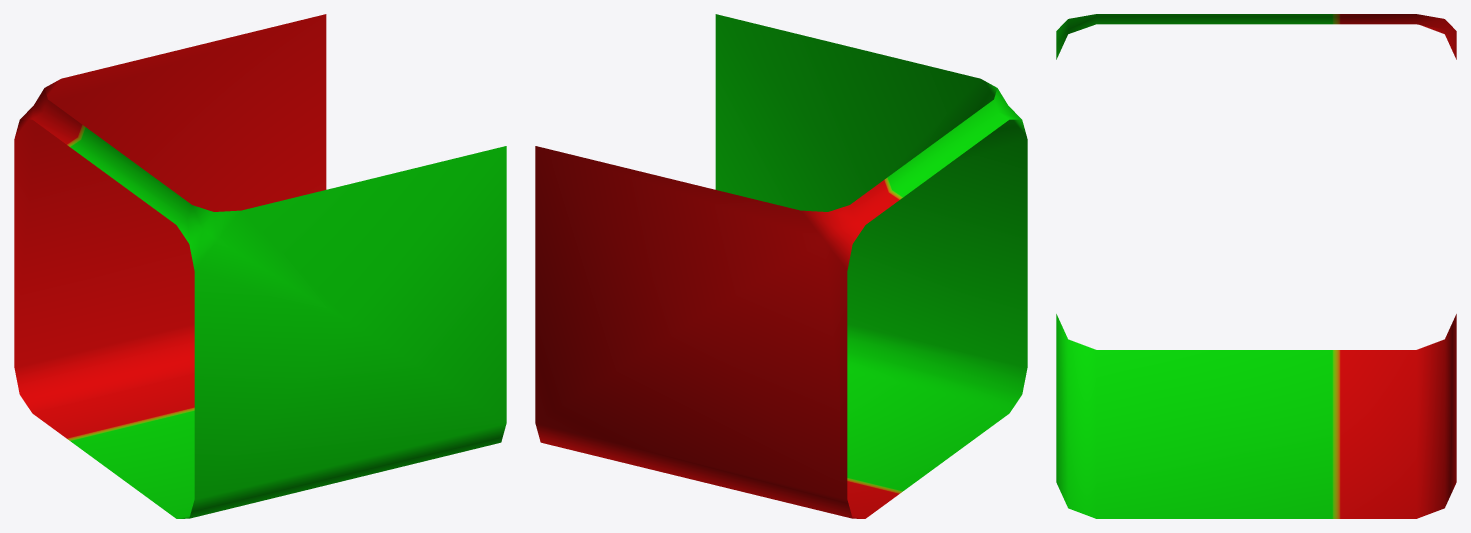
File: Grass-__└.fbx
3 views of the same model, side by side, from view 1: azimuth 30°, elevation 25°; view 2: azimuth 150°, elevation 25°; view 3: azimuth 270°, elevation 25° (orthographic). The views are drawn at different scales.
Parts seen in each view (by area): view 1: Grass-__└; view 2: Grass-__└; view 3: Grass-__└.
Boxes of the visible parts, <box> form: Grass-__└: <box>14,14,506,518</box>; Grass-__└: <box>535,14,1027,518</box>; Grass-__└: <box>1056,14,1456,518</box>.
Size of the model in its own units: 100 by 100 by 95.
